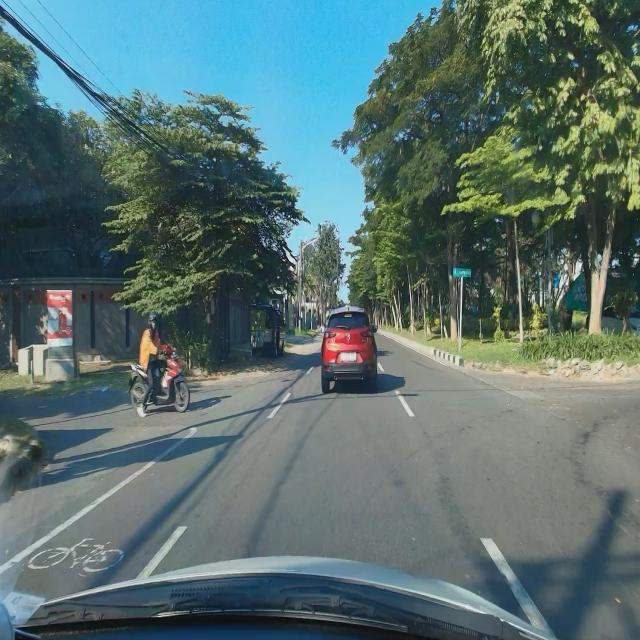car: (321, 307, 378, 395)
license-plate: (340, 351, 357, 363)
